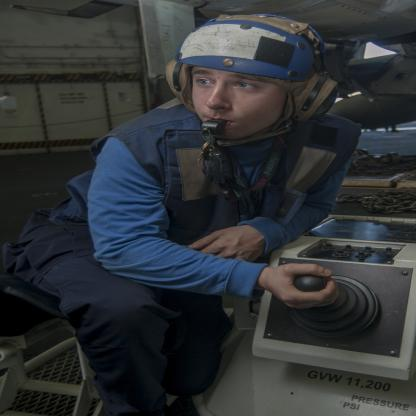Helmet: (166, 14, 345, 151)
